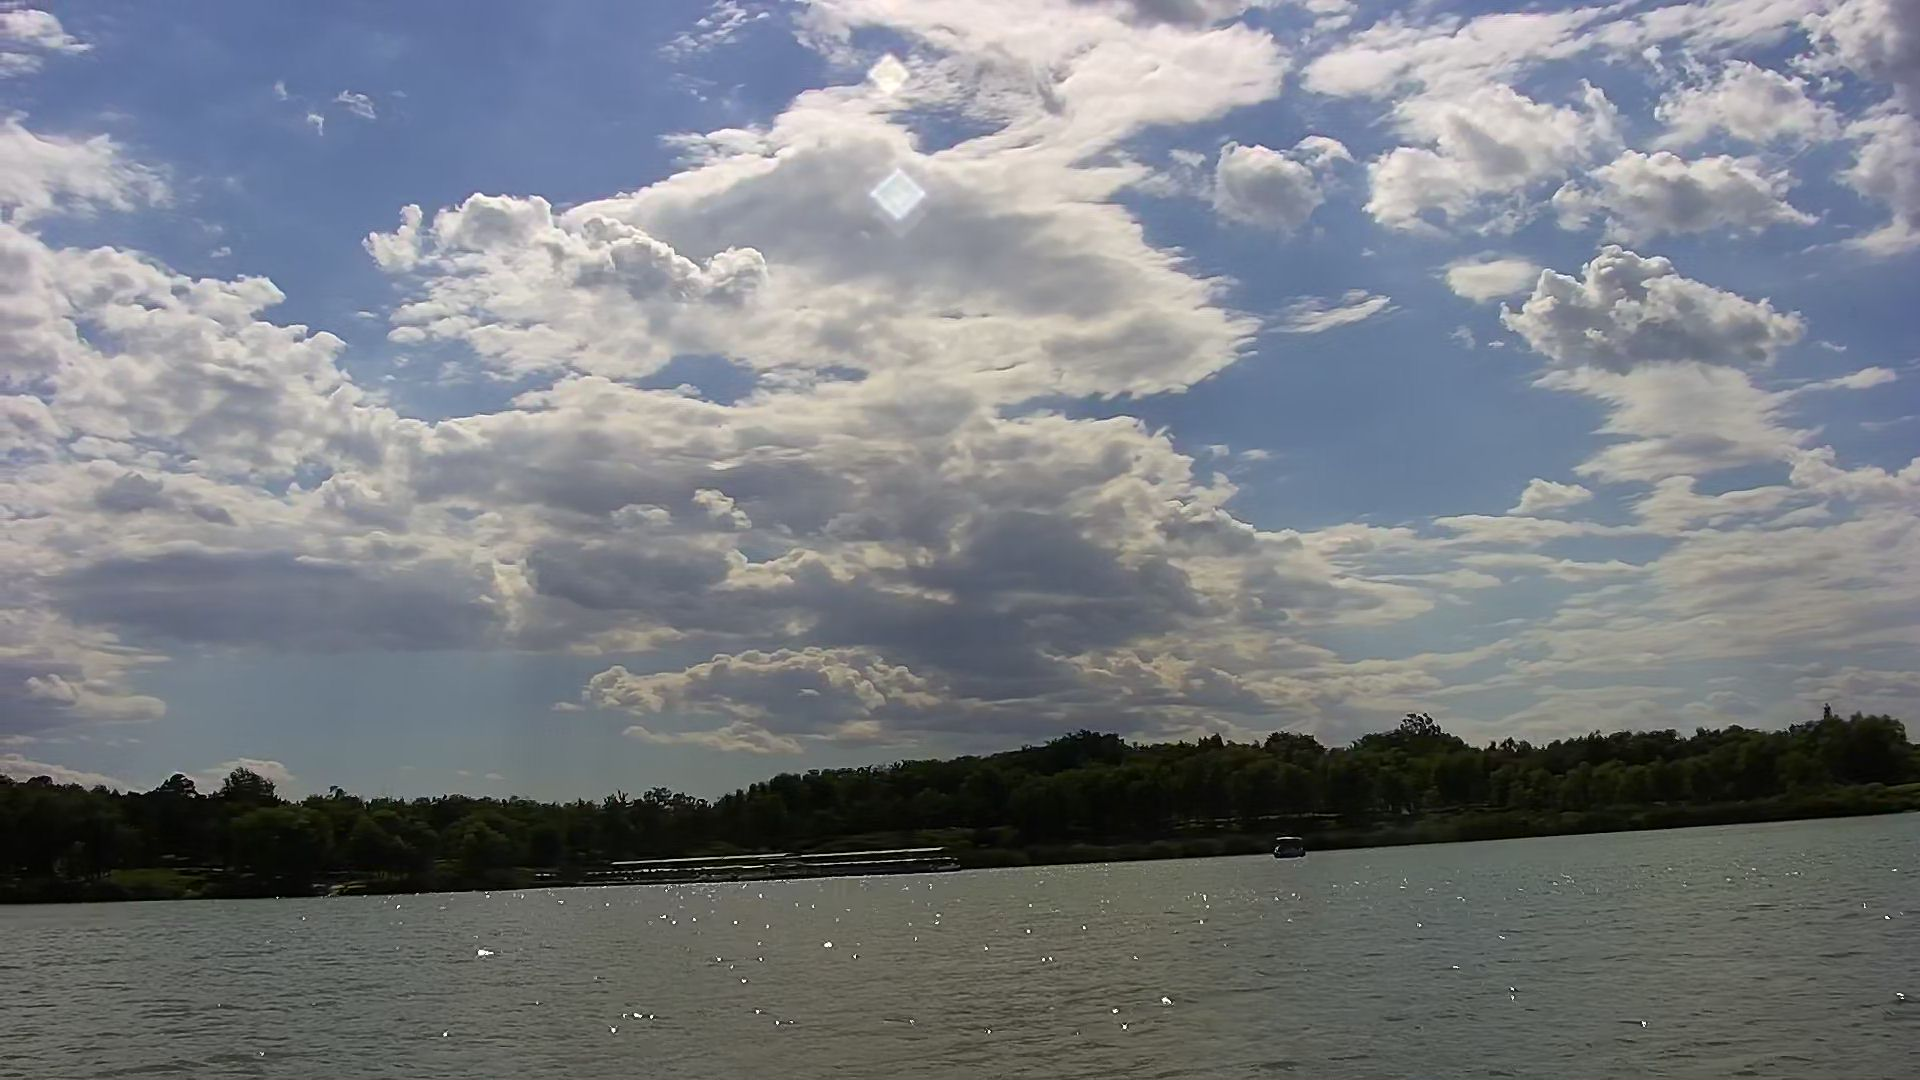boat: (1267, 828, 1308, 861)
harbor: (593, 847, 949, 885)
